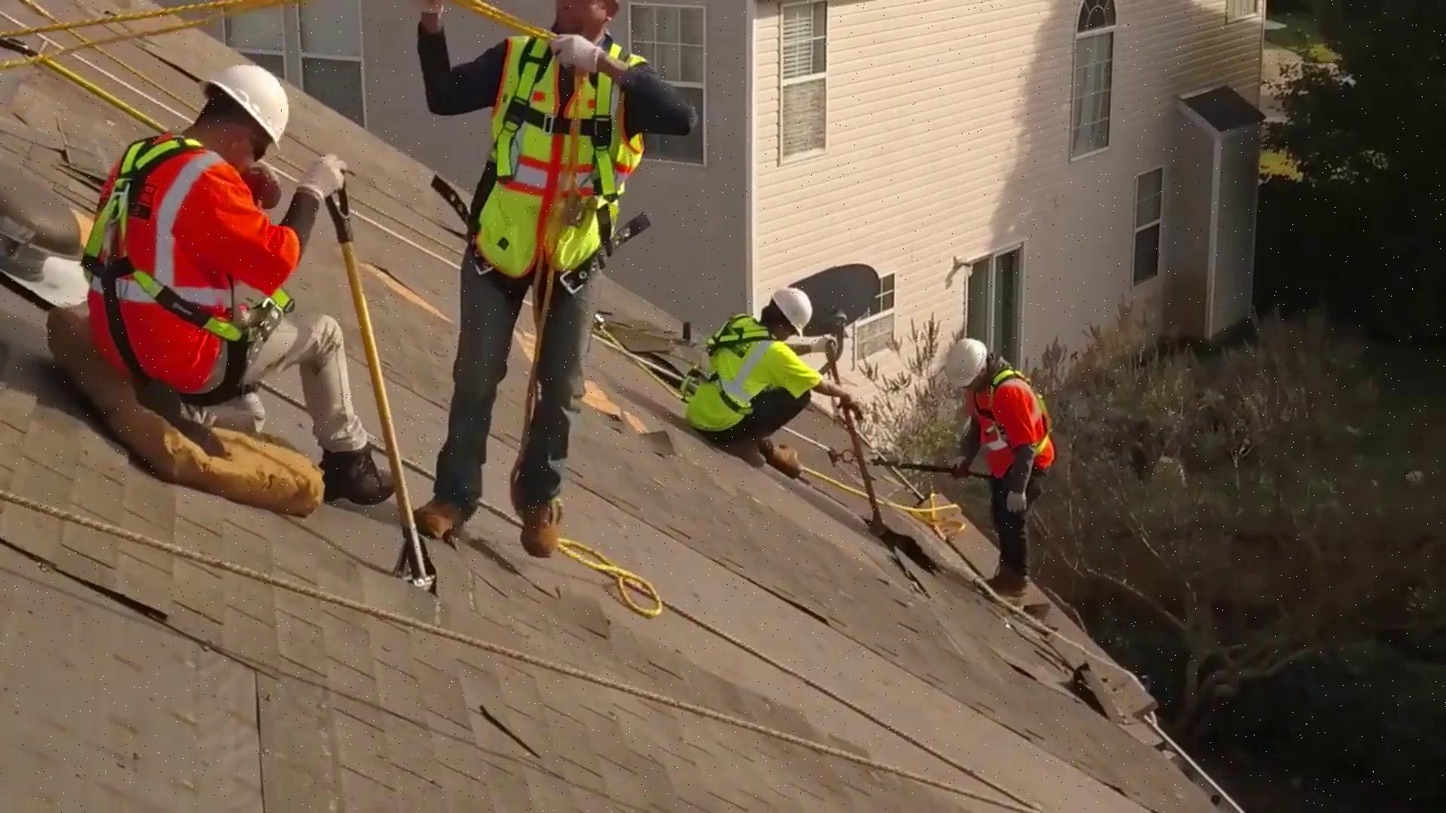Hard_hat: (201, 59, 298, 148), (947, 337, 983, 383), (772, 285, 807, 332)
Vest: (85, 116, 284, 383), (500, 27, 634, 283), (690, 315, 794, 428), (975, 379, 1058, 488)
